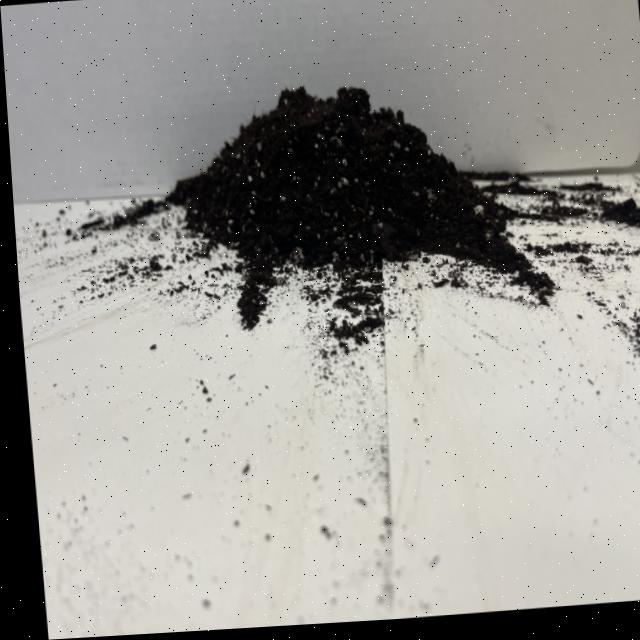soil: (101, 11, 587, 340)
